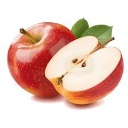apple: (44, 35, 124, 105)
